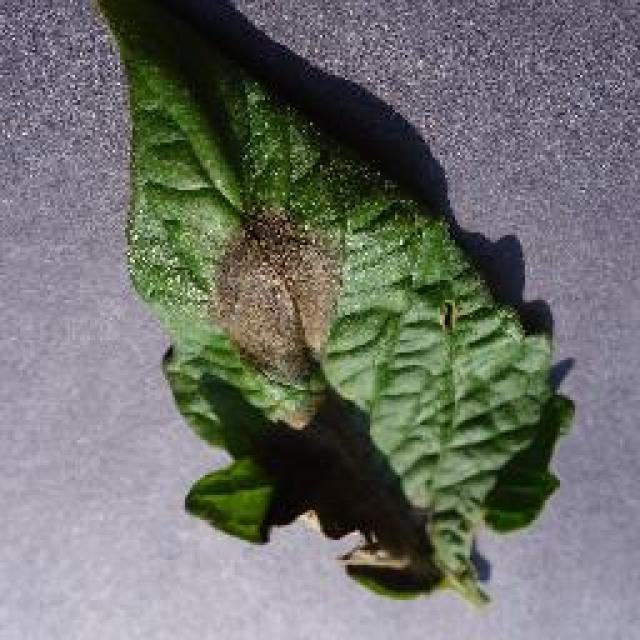Tomato Late Blight: (187, 160, 370, 445)
